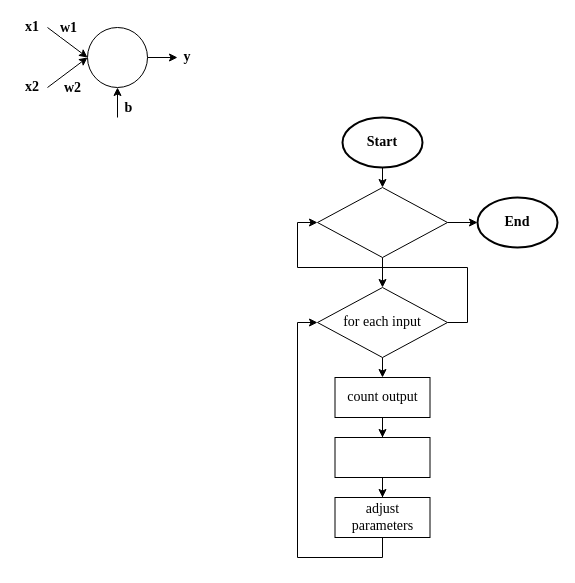
Some shapes in this 575 by 583 pixel diagram are drawn without their labels. Each missing label, with the centre of its shape:
"count error" goes at (382,457).
"f (z)" goes at (117,57).
"for each epoch" goes at (382,222).
